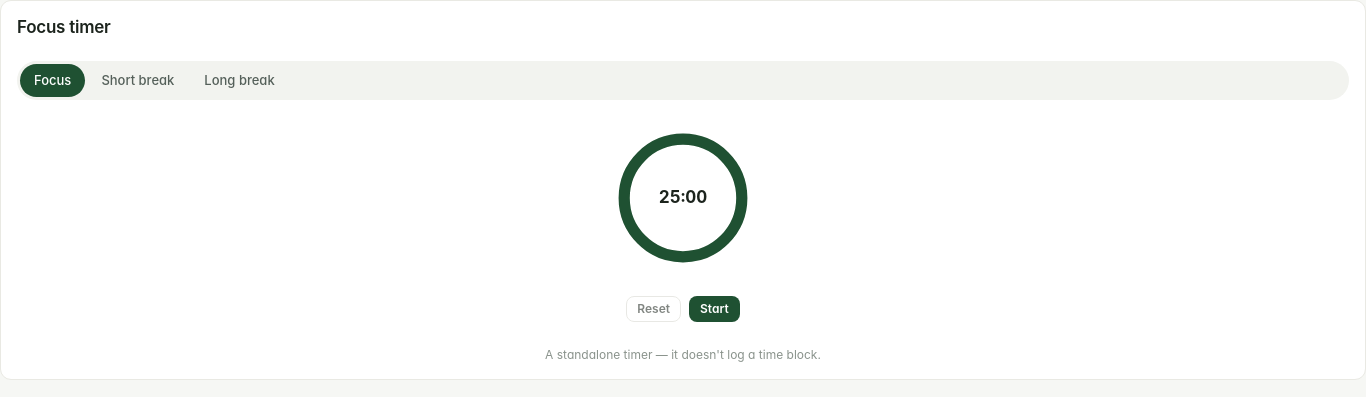
Test: PomodoroCard › pauses and resumes
Click the button "Start". click: (714, 308)
box: x1=689 y1=296 x2=740 y2=322
Wait 2000 ms
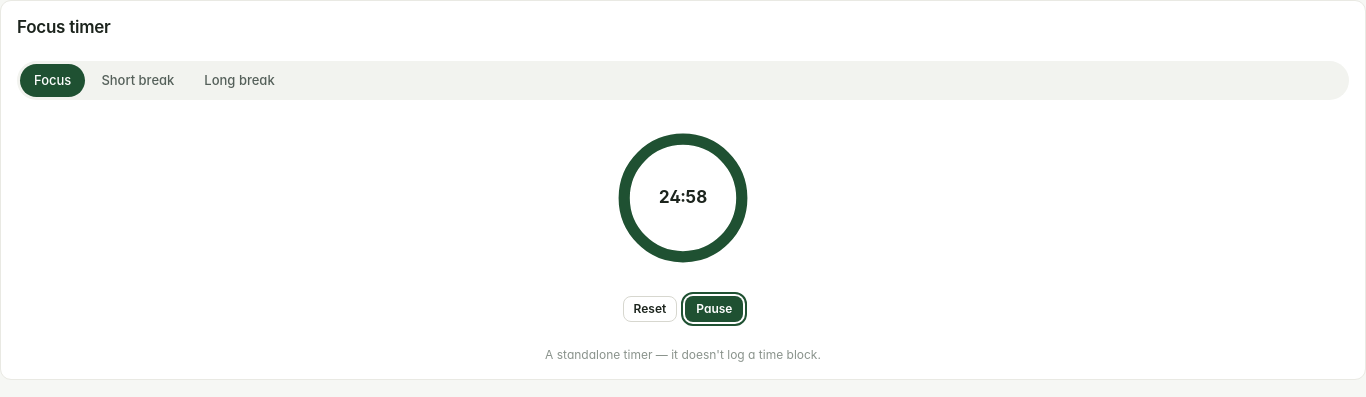
Click the button "Pause". click: (714, 308)
box: x1=685 y1=296 x2=744 y2=322
Wait 5000 ms
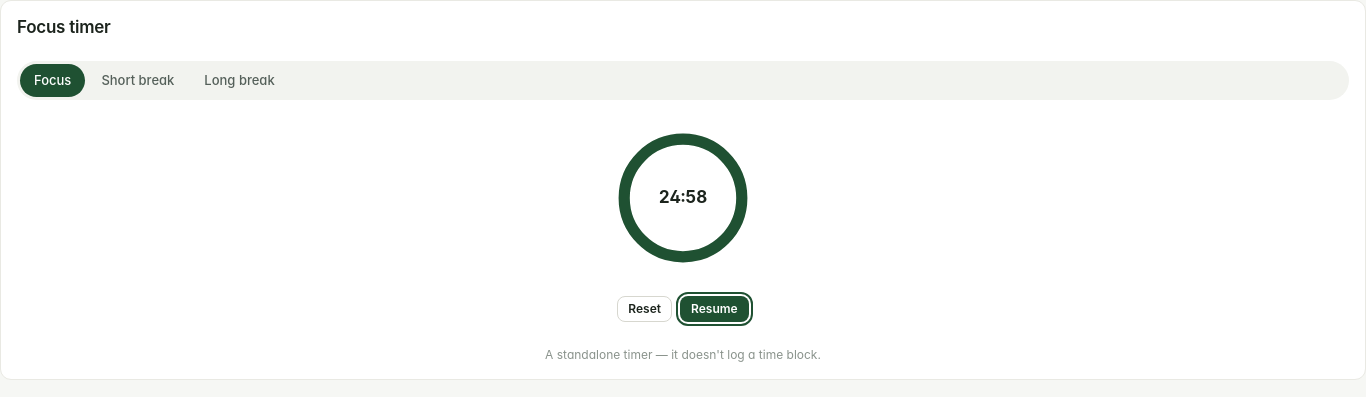
Now the text "24:58" is shown, box x1=659 y1=184 x2=707 y2=211
Click the button "Resume". click: (714, 308)
box: x1=680 y1=296 x2=749 y2=322
Wait 2000 ms
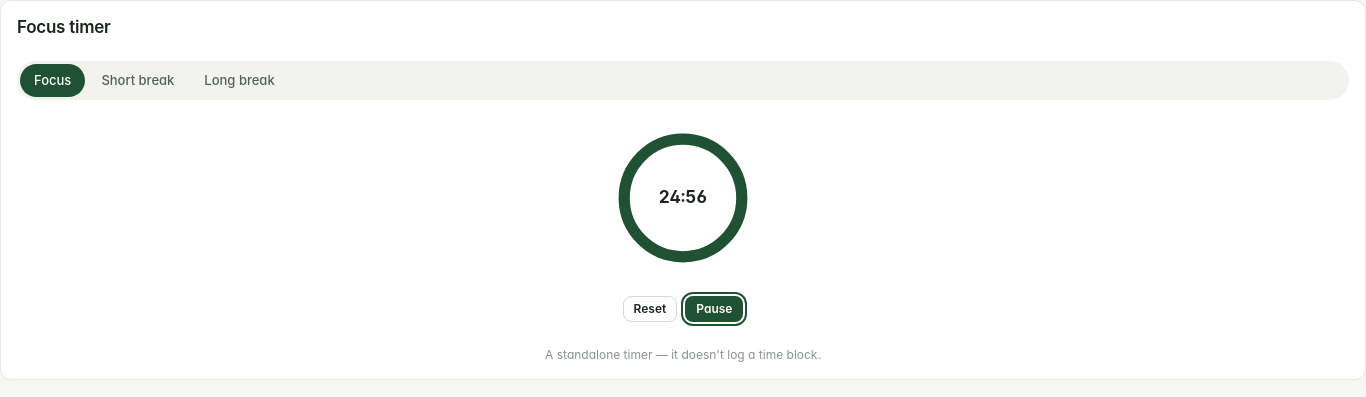
Now the text "24:56" is shown, box x1=659 y1=184 x2=707 y2=211
